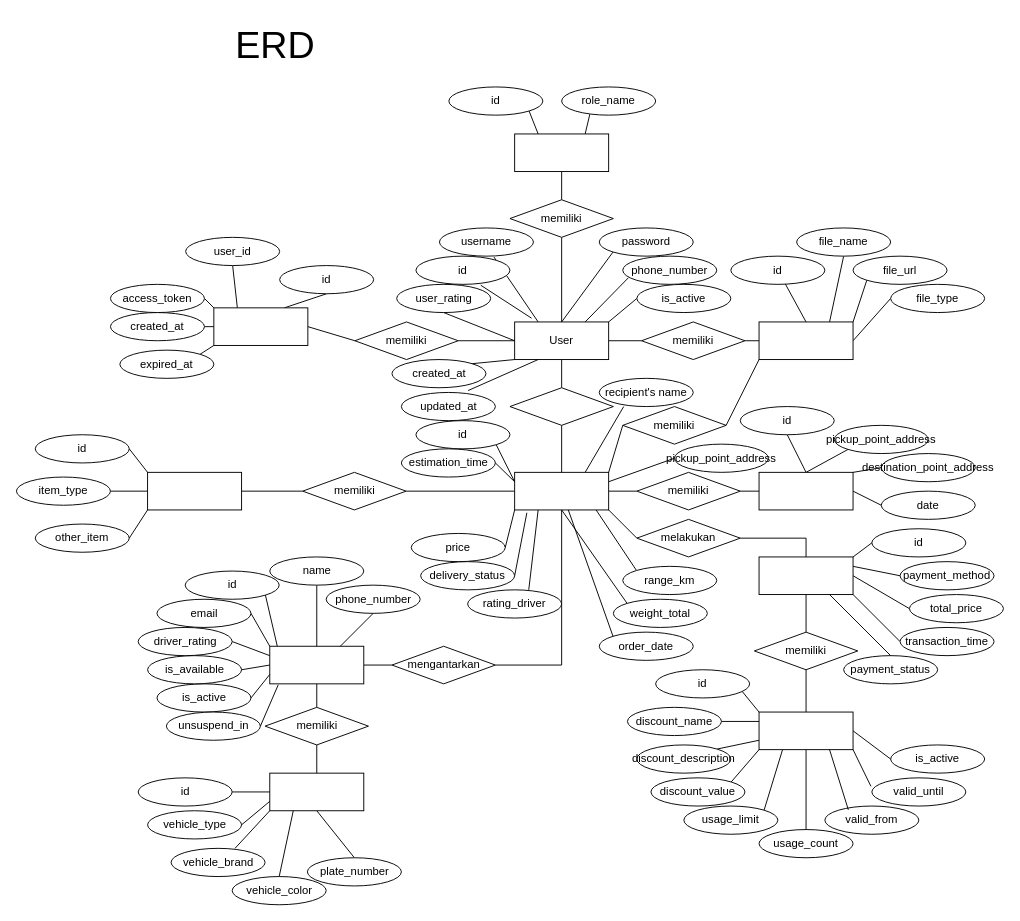
The diagram is 1020 pixels wide and 921 high, and some of its shapes have lost their labels. The shapes that lost their labels are listed below. From the top down, each one's box as (x1, y1, x2, y2) in pixels, then its label:
(514, 133, 609, 172): Role
(213, 307, 308, 345): Token
(758, 321, 853, 360): file
(509, 387, 613, 425): memesan
(147, 471, 242, 510): item
(514, 471, 609, 510): Delivery_Order
(758, 471, 853, 510): Address
(758, 556, 853, 595): Payment
(269, 645, 364, 684): Driver
(758, 711, 853, 750): voucher_discount
(269, 772, 364, 811): vehicle
